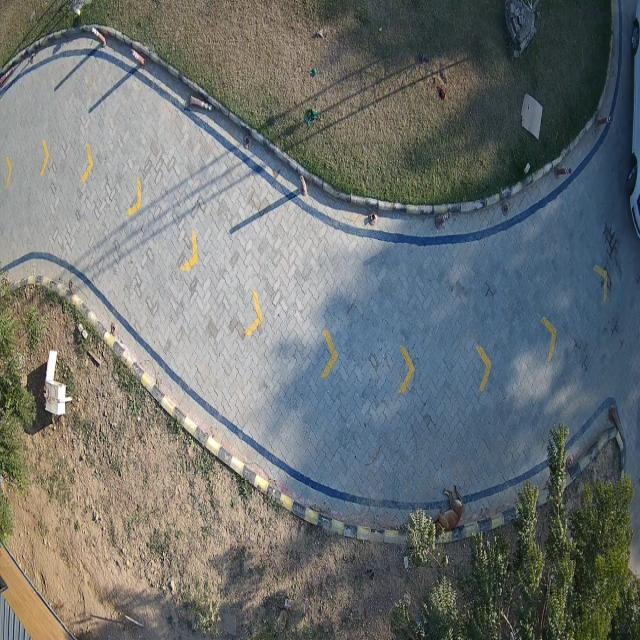car: (628, 0, 640, 237)
